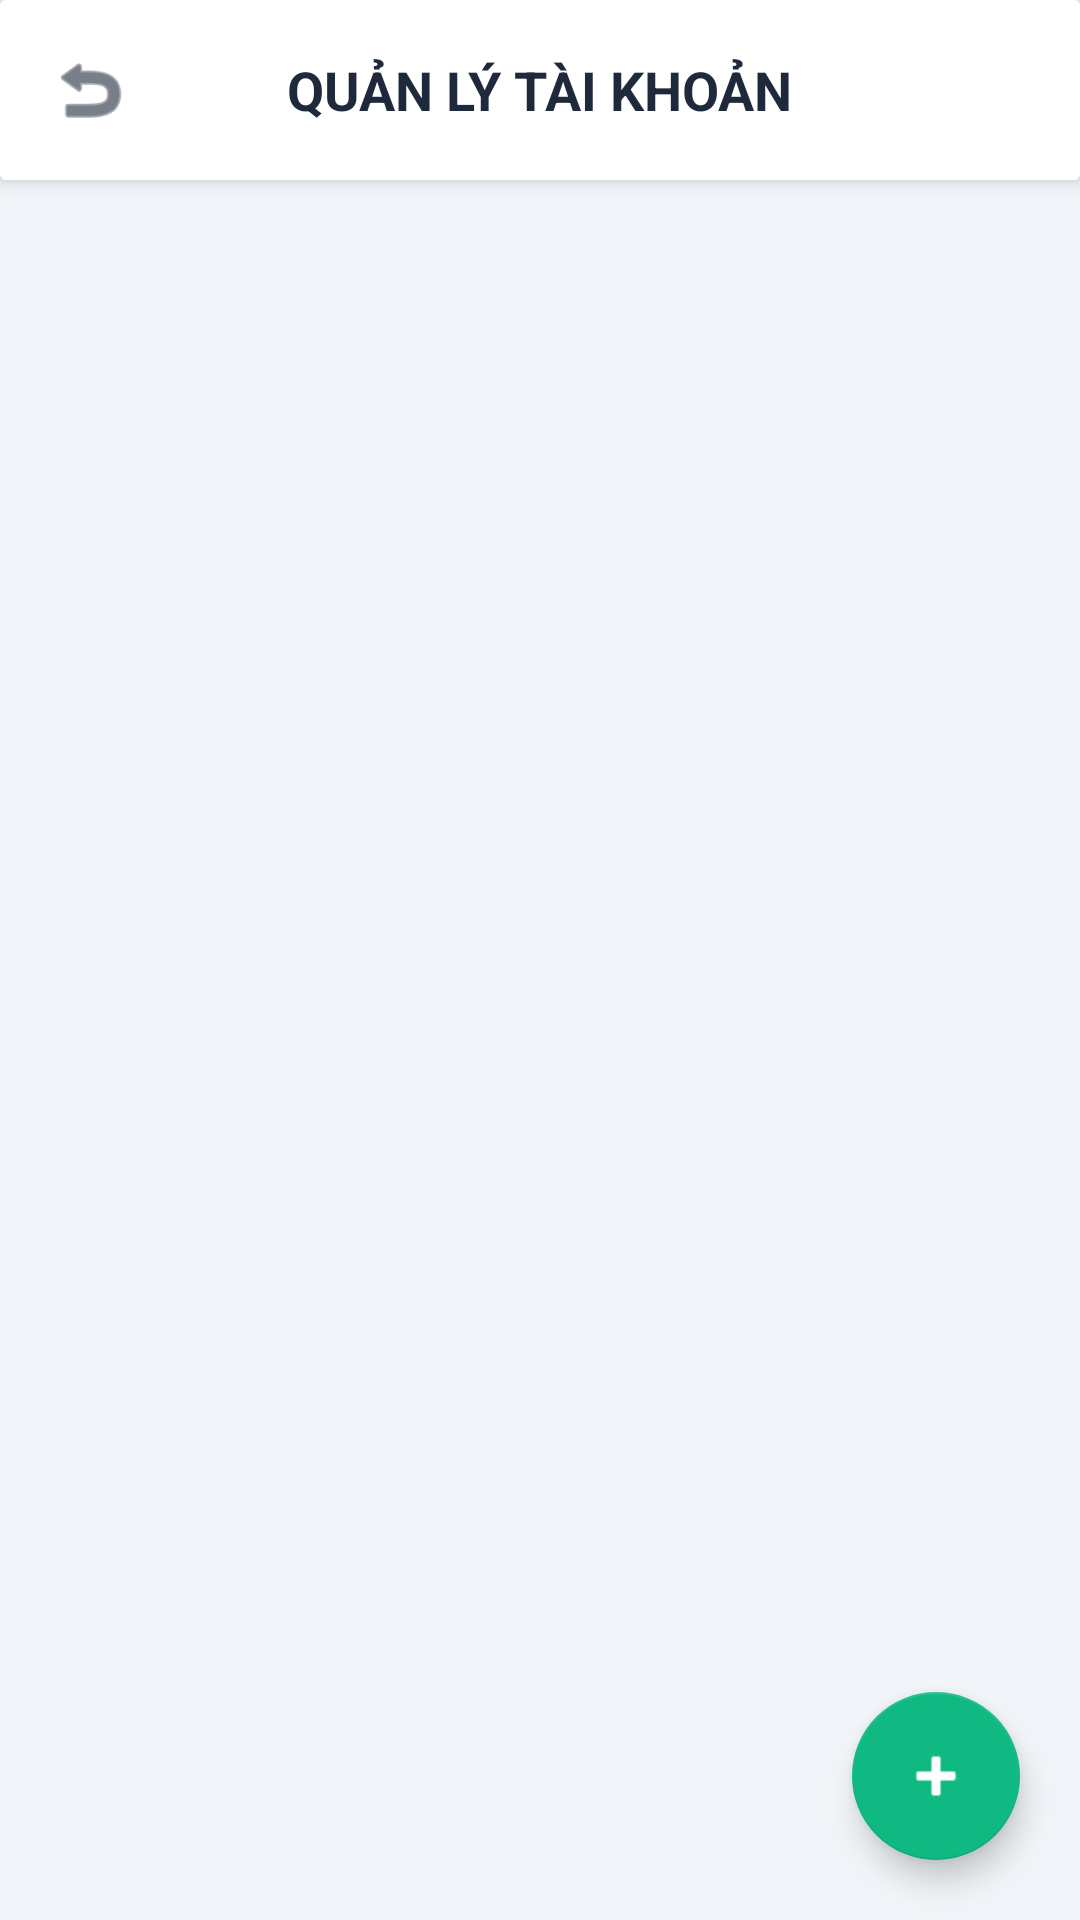

Screen size 1080x1920. Icon name, then its box in pixels as [x1=x1, y1=y1, x2=x2, y2=y2]:
add: [x1=852, y1=1692, x2=1020, y2=1860]
revert: [x1=61, y1=63, x2=121, y2=118]
